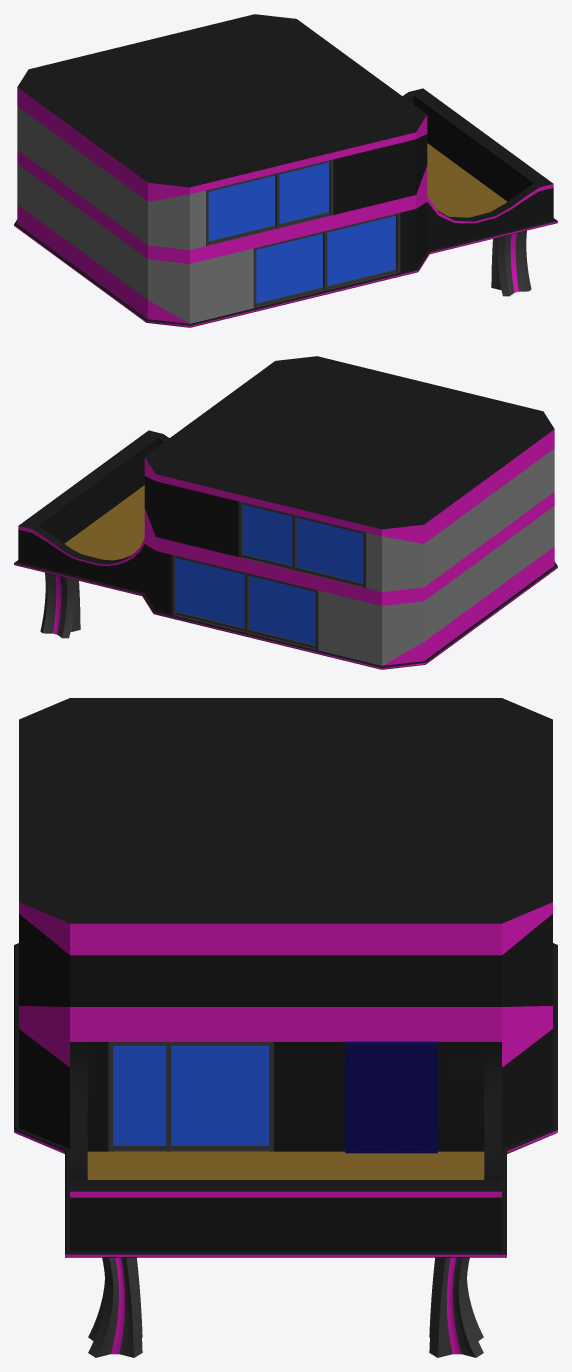
Rendered from SM_Building_Middle02_MK6.fbx.
3 renders of one model, top to bottom at view 1: azimuth 30°, elevation 25°; view 2: azimuth 150°, elevation 25°; view 3: azimuth 270°, elevation 25°, orthographic. The views are drawn at different scales.
Visible parts, largest first — view 1: SM_Building_Middle02_MK6; view 2: SM_Building_Middle02_MK6; view 3: SM_Building_Middle02_MK6.
Boxes of the visible parts, left/top/right/bottom form: SM_Building_Middle02_MK6: left=14, top=14, right=557, bottom=327; SM_Building_Middle02_MK6: left=14, top=356, right=557, bottom=669; SM_Building_Middle02_MK6: left=14, top=698, right=557, bottom=1357.
Size of the model in its own units: 1545 by 747 by 1070.
